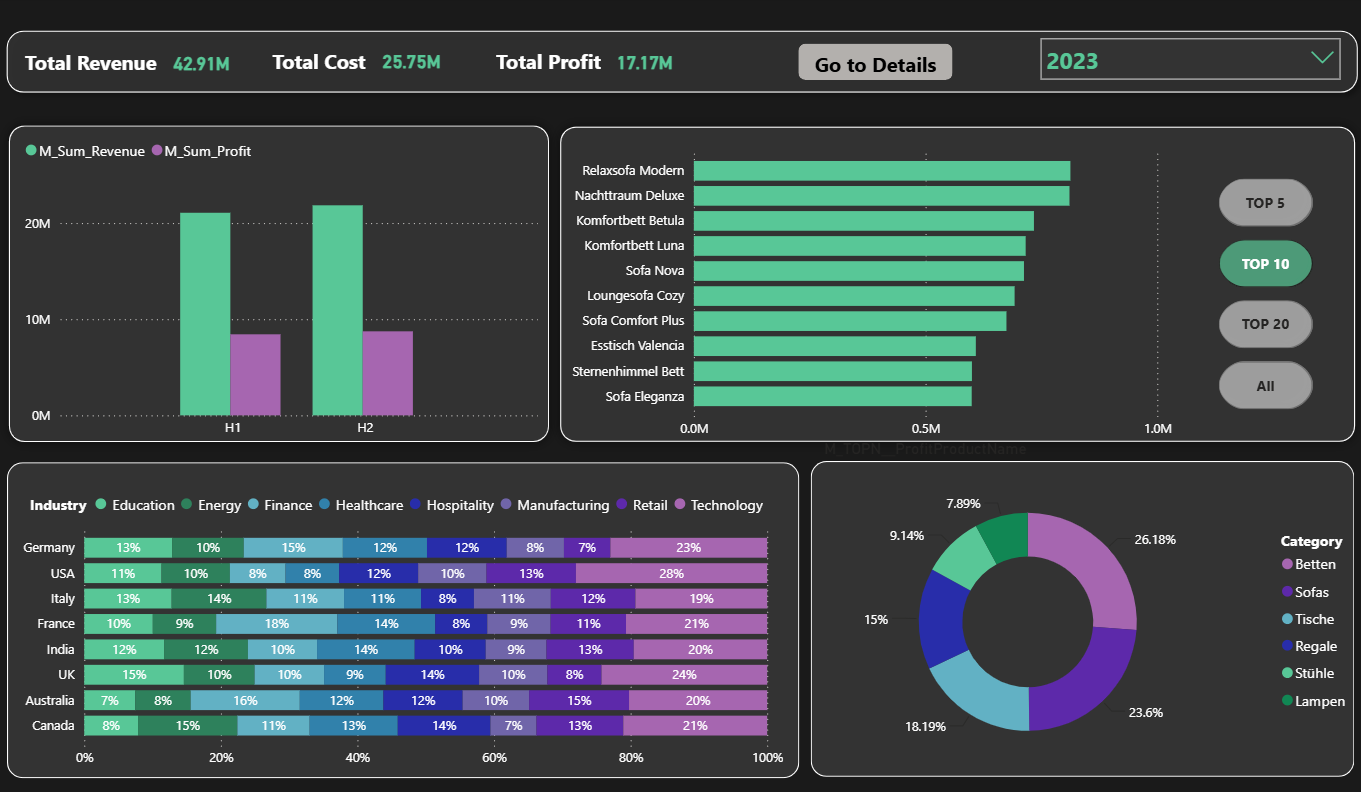

The dashboard page shown, as its layout file describes it:
{"tool":"powerbi","page":{"name":"Header","canvas":[1280,720],"ordinal":0},"visuals":[{"type":"shape","box":[9.1,411.5,739.9,295],"z":0},{"type":"shape","box":[1.4,87.1,524.3,315.7],"z":1000},{"type":"shape","box":[516.3,88.6,762.3,314.3],"z":2000},{"type":"shape","box":[759.5,411.4,507.6,294.9],"z":3000},{"type":"shape","box":[0,0,1279.8,75.9],"z":4000},{"type":"card","fields":{"Values":["ListOfMeasures.M_Sum_Cost"]},"box":[339.9,19.2,95,40.6],"z":5000},{"type":"card","fields":{"Values":["ListOfMeasures.M_Sum_Profit"]},"box":[546,16.5,117.2,47.2],"z":6000},{"type":"card","fields":{"Values":["ListOfMeasures.M_Sum_Revenue"]},"box":[138.2,22,106.7,36.7],"z":7000},{"type":"textbox","box":[252.7,20.1,122.5,40],"z":8000},{"type":"textbox","box":[21.5,20.5,140.5,37.2],"z":9000},{"type":"textbox","box":[461,20.1,122.5,40],"z":10000},{"type":"clusteredColumnChart","fields":{"Y":["ListOfMeasures.M_Sum_Revenue","ListOfMeasures.M_Sum_Profit"],"Category":["DimDate.HalfYearName Hierarchy.HalfYearName","DimDate.HalfYearName Hierarchy.QuarterName","DimDate.HalfYearName Hierarchy.MonthName"]},"box":[21.4,99.8,489,297.8],"z":11000},{"type":"clusteredBarChart","fields":{"Category":["DimProduct.ProductName"],"Y":["ListOfMeasures.M_TOPN__ProfitProductName"]},"box":[522.8,108.9,579.8,303.8],"z":12000},{"type":"hundredPercentStackedBarChart","fields":{"Category":["DimCustomers.Country"],"Y":["ListOfMeasures.M_Sum_Revenue"],"Series":["DimCustomers.Industry"]},"box":[12.1,431.2,727.8,275.4],"z":13000},{"type":"donutChart","fields":{"Category":["DimProduct.Category"],"Y":["ListOfMeasures.M_Sum_Profit"]},"box":[721.2,422,558.8,277.5],"z":14000},{"type":"slicer","fields":{"Values":["DimDate.Year_Date"]},"box":[963.8,6.3,300,55.7],"z":15000},{"type":"advancedSlicerVisual","fields":{"Values":["TopTBL.Value"]},"box":[1145.6,100,100,220.3],"z":16000},{"type":"actionButton","box":[748.1,21.5,144.3,34.2],"z":17000}]}

Visuals, with their boxes on the page's 1280x720 design canvas (x1, y1, x2, y2). These are canvas units, not pixel positions in the 1361x792 screenshot, which may show the page scaled, cropped or inside an application window:
shape: <region>9, 412, 749, 706</region>
shape: <region>1, 87, 526, 403</region>
shape: <region>516, 89, 1279, 403</region>
shape: <region>760, 411, 1267, 706</region>
shape: <region>0, 0, 1280, 76</region>
card - ListOfMeasures.M_Sum_Cost: <region>340, 19, 435, 60</region>
card - ListOfMeasures.M_Sum_Profit: <region>546, 16, 663, 64</region>
card - ListOfMeasures.M_Sum_Revenue: <region>138, 22, 245, 59</region>
textbox: <region>253, 20, 375, 60</region>
textbox: <region>22, 20, 162, 58</region>
textbox: <region>461, 20, 584, 60</region>
clusteredColumnChart - ListOfMeasures.M_Sum_Revenue x ListOfMeasures.M_Sum_Profit: <region>21, 100, 510, 398</region>
clusteredBarChart - DimProduct.ProductName x ListOfMeasures.M_TOPN__ProfitProductName: <region>523, 109, 1103, 413</region>
hundredPercentStackedBarChart - DimCustomers.Country x ListOfMeasures.M_Sum_Revenue: <region>12, 431, 740, 707</region>
donutChart - DimProduct.Category x ListOfMeasures.M_Sum_Profit: <region>721, 422, 1280, 700</region>
slicer - DimDate.Year_Date: <region>964, 6, 1264, 62</region>
advancedSlicerVisual - TopTBL.Value: <region>1146, 100, 1246, 320</region>
actionButton: <region>748, 22, 892, 56</region>
